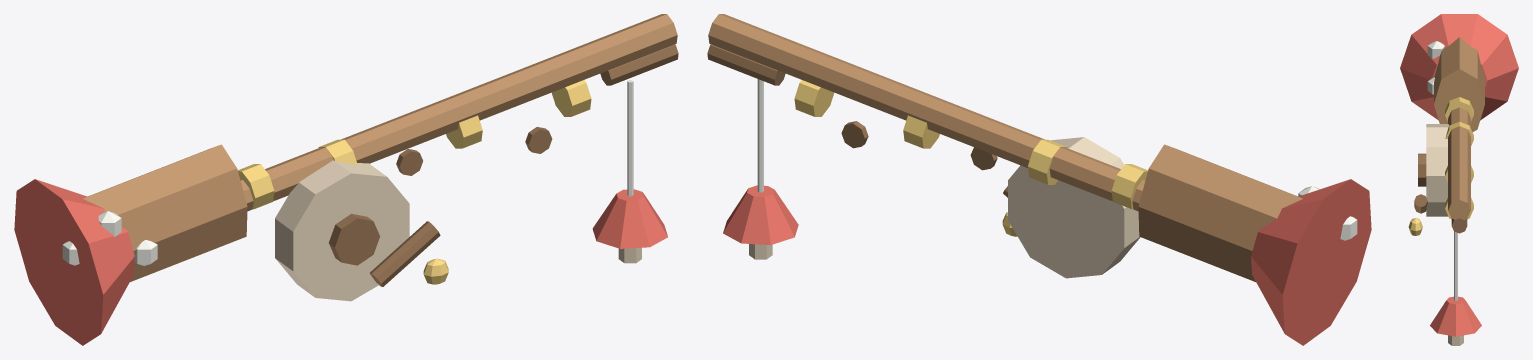
3 views of the same model, side by side, from view 1: azimuth 30°, elevation 25°; view 2: azimuth 150°, elevation 25°; view 3: azimuth 270°, elevation 25° (orthographic). The views are drawn at different scales.
Visible parts, largest first — view 1: main tapered wooden rod, rounded red mushroom handle cap, round cream reel body, rounded handle grip, mushroom lure cap, dark reel hole, short reel arm, dark rod tip, chunky gold binding, chunky gold binding.001, straight pale fishing line, chunky gold binding.003 (+4 smaller); view 2: main tapered wooden rod, rounded red mushroom handle cap, rounded handle grip, round cream reel body, mushroom lure cap, dark rod tip, chunky gold binding, chunky gold binding.001, chunky gold binding.002, chunky gold binding.003, straight pale fishing line, front guide ring; view 3: rounded red mushroom handle cap, rounded handle grip, main tapered wooden rod, round cream reel body, mushroom lure cap, chunky gold binding.001, dark reel hole, straight pale fishing line, large clear mushroom spot.002, short reel arm, dark rod tip, round reel knob (+3 smaller).
Part boxes in pixels (x1=…): main tapered wooden rod: x1=240, y1=14, x2=677, y2=211; rounded red mushroom handle cap: x1=14, y1=179, x2=134, y2=345; round cream reel body: x1=275, y1=160, x2=409, y2=301; rounded handle grip: x1=83, y1=144, x2=247, y2=281; mushroom lure cap: x1=592, y1=189, x2=667, y2=248; dark reel hole: x1=329, y1=213, x2=379, y2=265; short reel arm: x1=370, y1=221, x2=440, y2=286; dark rod tip: x1=600, y1=44, x2=678, y2=85; chunky gold binding: x1=551, y1=80, x2=591, y2=116; chunky gold binding.001: x1=238, y1=164, x2=274, y2=209; straight pale fishing line: x1=627, y1=80, x2=633, y2=196; chunky gold binding.003: x1=446, y1=115, x2=482, y2=148; main tapered wooden rod: x1=708, y1=14, x2=1145, y2=211; rounded red mushroom handle cap: x1=1251, y1=179, x2=1371, y2=345; rounded handle grip: x1=1138, y1=144, x2=1302, y2=281; round cream reel body: x1=1008, y1=137, x2=1140, y2=278; mushroom lure cap: x1=723, y1=185, x2=798, y2=244; dark rod tip: x1=707, y1=44, x2=785, y2=85; chunky gold binding: x1=794, y1=80, x2=834, y2=116; chunky gold binding.001: x1=1111, y1=164, x2=1147, y2=209; chunky gold binding.002: x1=1027, y1=139, x2=1067, y2=184; chunky gold binding.003: x1=903, y1=115, x2=939, y2=148; straight pale fishing line: x1=757, y1=79, x2=763, y2=192; front guide ring: x1=841, y1=121, x2=868, y2=148; rounded red mushroom handle cap: x1=1400, y1=14, x2=1518, y2=120; rounded handle grip: x1=1434, y1=37, x2=1484, y2=131; main tapered wooden rod: x1=1448, y1=107, x2=1470, y2=219; round cream reel body: x1=1426, y1=124, x2=1448, y2=216; mushroom lure cap: x1=1430, y1=296, x2=1481, y2=336; chunky gold binding.001: x1=1445, y1=97, x2=1473, y2=121; dark reel hole: x1=1418, y1=153, x2=1426, y2=186; straight pale fishing line: x1=1454, y1=231, x2=1457, y2=300; large clear mushroom spot.002: x1=1427, y1=41, x2=1444, y2=58; short reel arm: x1=1414, y1=194, x2=1427, y2=213; dark rod tip: x1=1451, y1=218, x2=1467, y2=233; round reel knob: x1=1408, y1=218, x2=1422, y2=235.
Size of the model in its own units: 2.76 by 0.9849 by 0.68.
